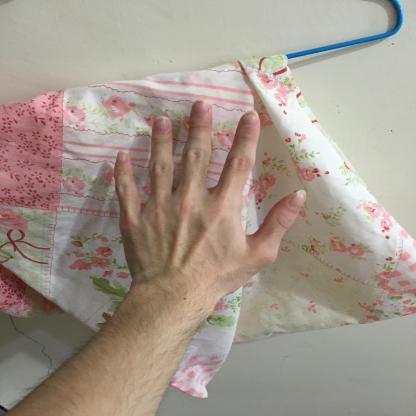bare_hand: (112, 90, 313, 312)
